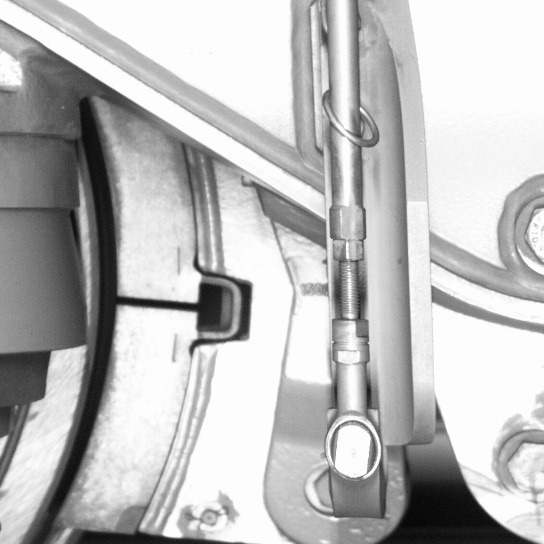KnifeSwitch: (21, 134, 192, 541)
